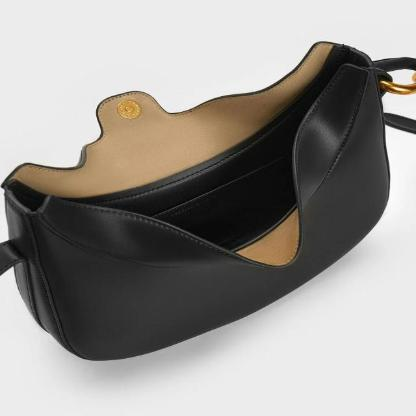bag: (5, 32, 414, 364)
